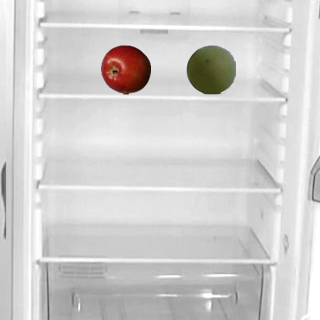Apple Braeburn: (100, 44, 150, 94)
Grape White 4: (185, 44, 235, 94)
